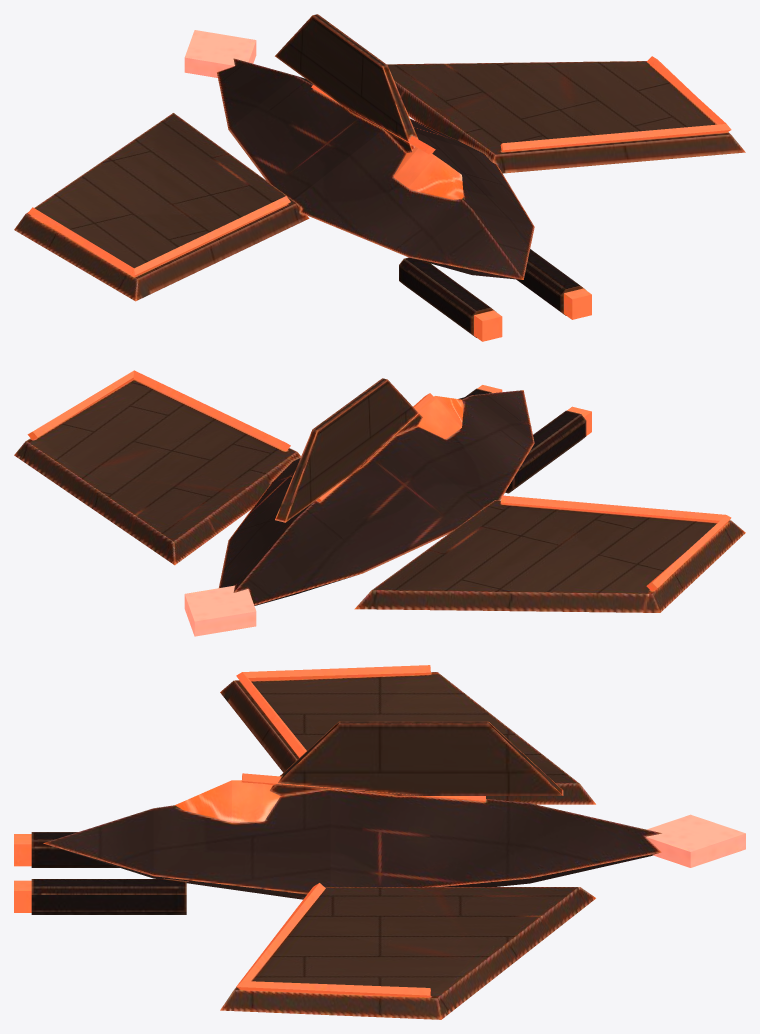
The model's file is facet.glb.
The picture shows the model from 3 angles, top to bottom: view 1: azimuth 30°, elevation 25°; view 2: azimuth 150°, elevation 25°; view 3: azimuth 270°, elevation 25°; orthographic projection. The views are drawn at different scales.
Parts seen in each view (by area): view 1: Facet, wing_l, wing_r, eye; view 2: Facet, wing_r, wing_l, eye; view 3: Facet, wing_l, wing_r, eye.
Boxes of the visible parts, x1,y1,x2,y2 form: Facet: [184, 14, 591, 341]; wing_l: [387, 56, 745, 173]; wing_r: [14, 113, 309, 301]; eye: [393, 147, 463, 199]; Facet: [184, 378, 591, 636]; wing_r: [354, 495, 745, 612]; wing_l: [14, 370, 300, 565]; eye: [418, 396, 463, 438]; Facet: [14, 721, 745, 914]; wing_l: [220, 883, 595, 1019]; wing_r: [220, 665, 595, 804]; eye: [175, 780, 280, 822].
Size of the model in its own units: 0.6984 by 0.1746 by 0.6412.
Materials: 5 (5 with a texture image).
